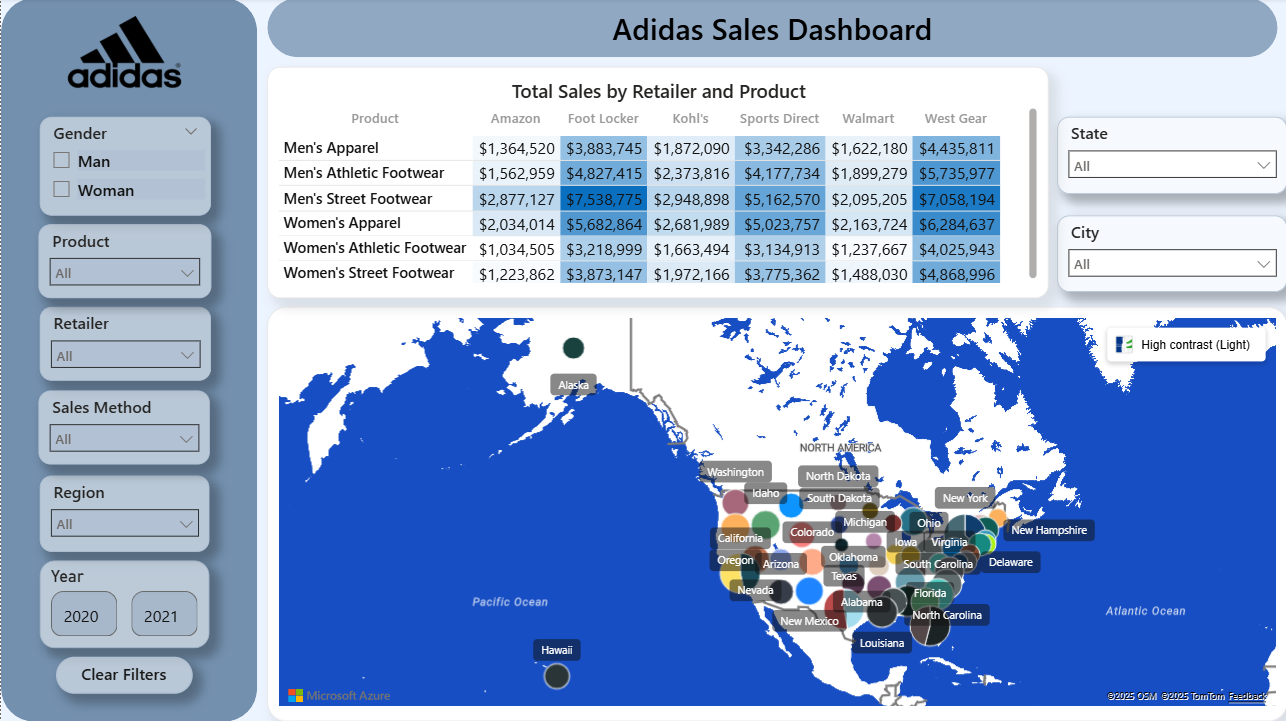

The page's visual inventory and layout, read from the dashboard file:
{"tool":"powerbi","page":{"name":"Location Analysis","canvas":[1280,720],"ordinal":2},"visuals":[{"type":"shape","box":[0,0,255,720.3],"z":0},{"type":"shape","box":[264.4,0,1005.6,58.9],"z":1000},{"type":"azureMap","fields":{"Category":["Data Sales Adidas.State"],"Size":["Sum(Data Sales Adidas.Operating Profit)"],"Series":["Data Sales Adidas.City"]},"box":[265,307.3,1015.1,413],"z":2000},{"type":"slicer","fields":{"Values":["Data Sales Adidas.State"]},"box":[1051.1,118.2,228.9,77.1],"z":3000},{"type":"slicer","fields":{"Values":["Data Sales Adidas.City"]},"box":[1051.1,216.4,228.9,75.9],"z":4000},{"type":"pivotTable","title":"Total Sales by Retailer and Product","fields":{"Rows":["Product.Product"],"Values":["Data Sales Adidas.Zero"],"Columns":["Retailer.Retailer"]},"box":[265,68.4,777.5,230.1],"z":5000},{"type":"image","box":[37.3,0,170.9,107.3],"z":7000},{"type":"slicer","fields":{"Values":["Region.Region"]},"box":[38.6,475.2,169.2,75.9],"z":8000},{"type":"slicer","fields":{"Values":["Retailer.Retailer"]},"box":[38.6,307.3,170.4,73.4],"z":9000},{"type":"slicer","fields":{"Values":["Method.Sales Method"]},"box":[37.3,390.6,170.4,73.4],"z":10000},{"type":"advancedSlicerVisual","fields":{"Values":["Date.Year"]},"box":[38.6,559.8,169.2,87.1],"z":11000},{"type":"slicer","fields":{"Values":["Product.Gender"]},"box":[38.6,118.2,170.4,98.3],"z":12000},{"type":"slicer","fields":{"Values":["Product.Product"]},"box":[37.3,225.2,171.7,73.4],"z":13000},{"type":"actionButton","box":[54.3,655.7,135.7,37.1],"z":14000}]}

Visuals, with their boxes in screenshot pixels (x1, y1, x2, y2), scaled from the page's 1280x720 canvas onto the 1286x721 screenshot:
shape: 0, 0, 256, 720
shape: 266, 0, 1276, 59
azureMap - Data Sales Adidas.State x Sum(Data Sales Adidas.Operating Profit): 266, 308, 1285, 720
slicer - Data Sales Adidas.State: 1056, 118, 1285, 196
slicer - Data Sales Adidas.City: 1056, 217, 1285, 293
"Total Sales by Retailer and Product" pivotTable: 266, 68, 1047, 299
image: 37, 0, 209, 107
slicer - Region.Region: 39, 476, 209, 552
slicer - Retailer.Retailer: 39, 308, 210, 381
slicer - Method.Sales Method: 37, 391, 209, 465
advancedSlicerVisual - Date.Year: 39, 561, 209, 648
slicer - Product.Gender: 39, 118, 210, 217
slicer - Product.Product: 37, 226, 210, 299
actionButton: 55, 657, 191, 694
